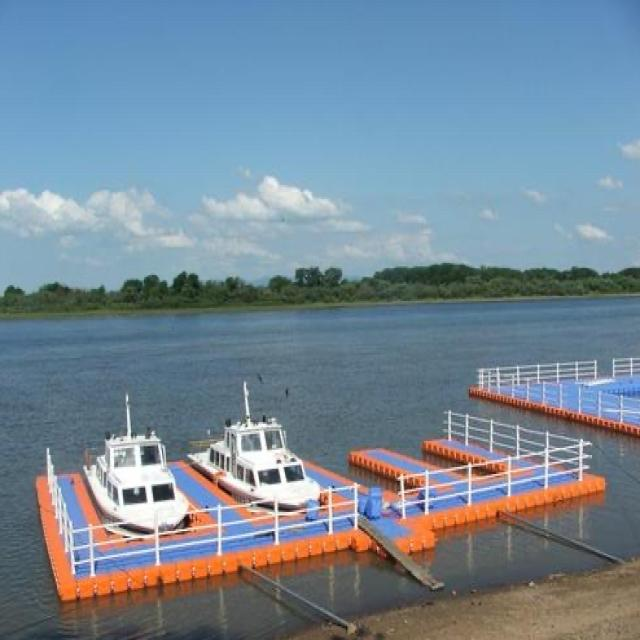houseboat: (197, 404, 326, 506), (85, 413, 192, 529)
